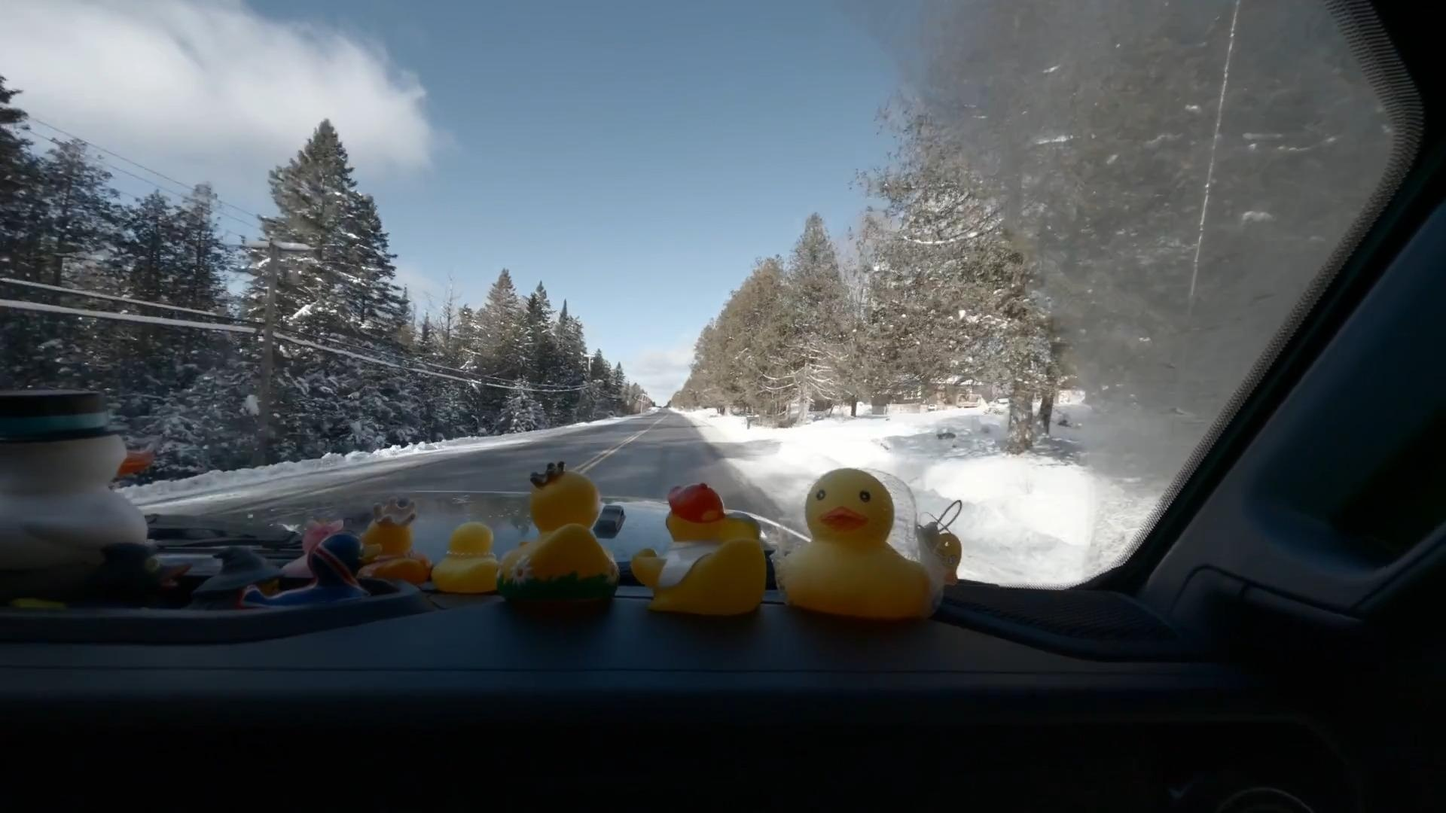Ice: (158, 408, 805, 532)
Snow: (679, 398, 1139, 584), (121, 407, 654, 517)
